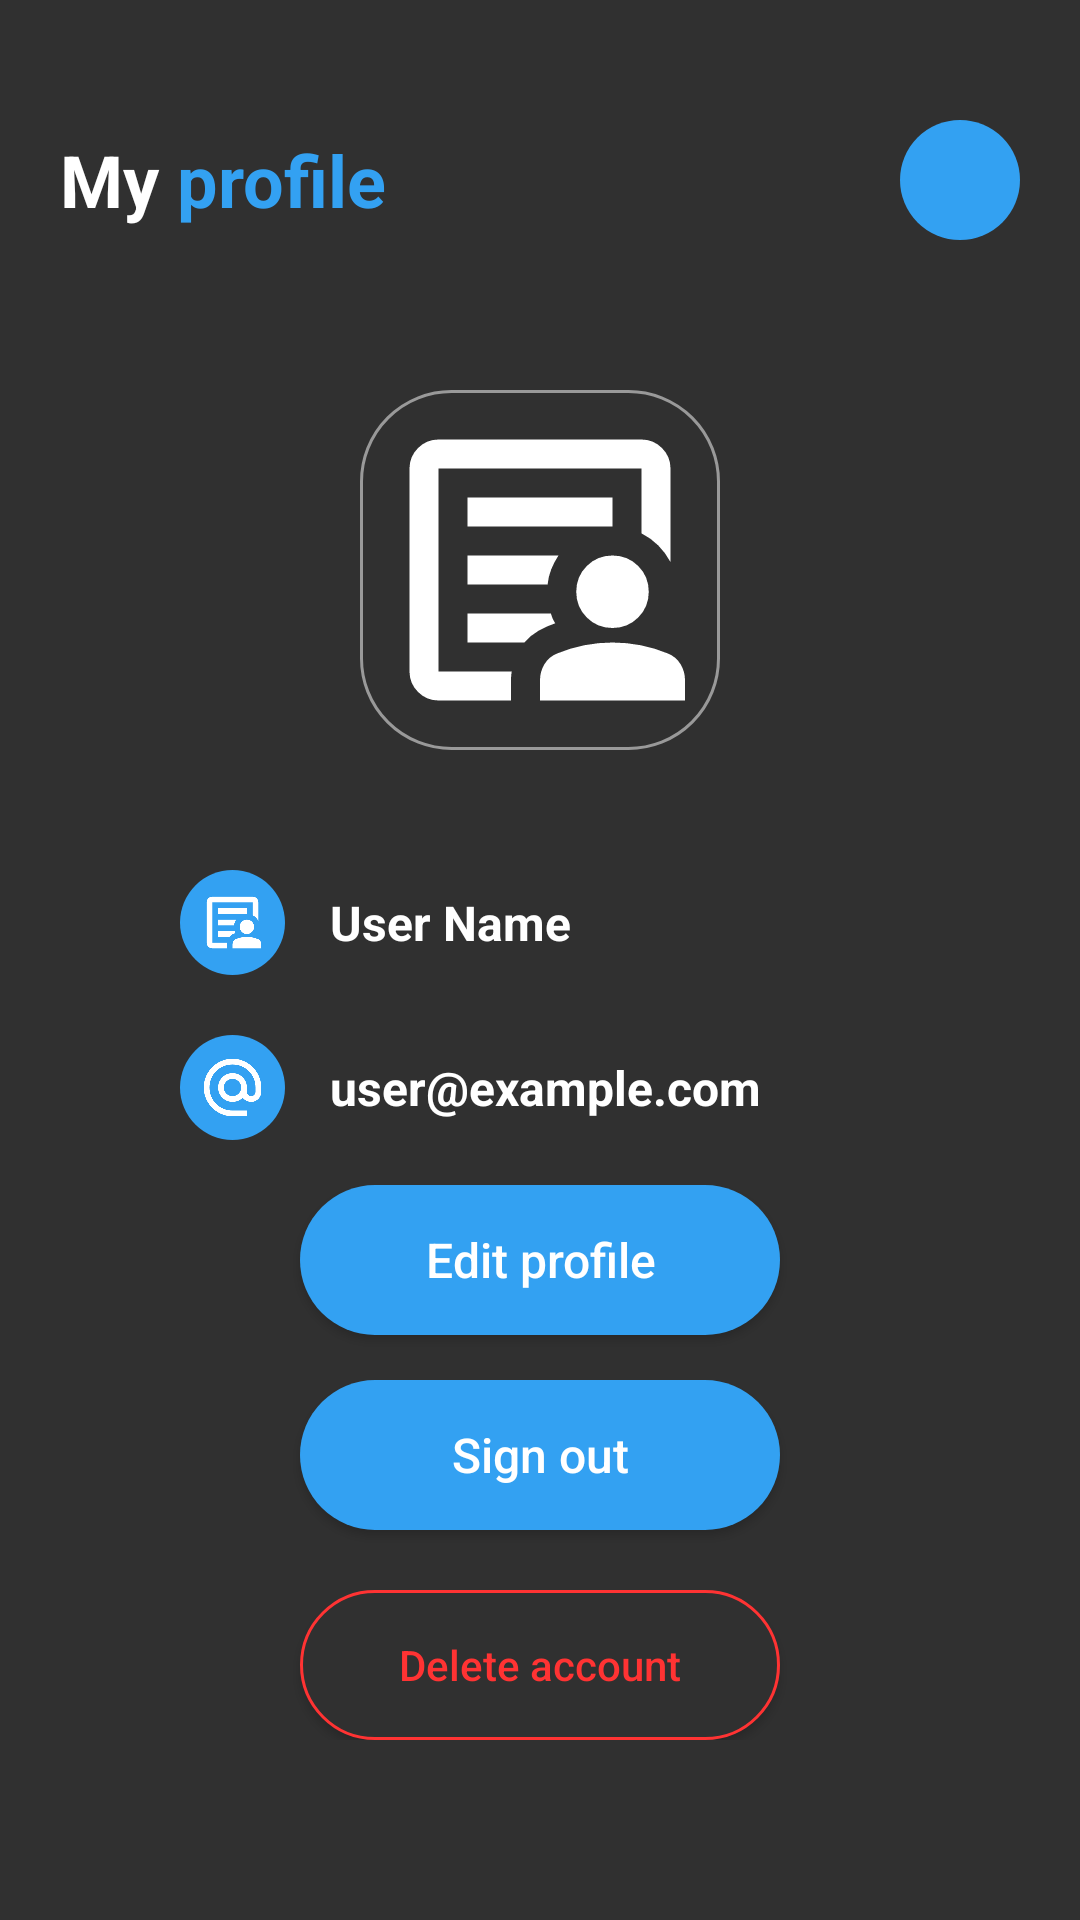

Screen size 1080×1920. Icon name, then its box in pixels as BBox(x1, y1, x2, y2):
email: BBox(180, 1035, 285, 1140)
person: BBox(360, 390, 720, 750), BBox(180, 870, 285, 975)
